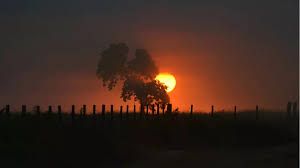smoke: (231, 8, 300, 73), (12, 9, 72, 62)
